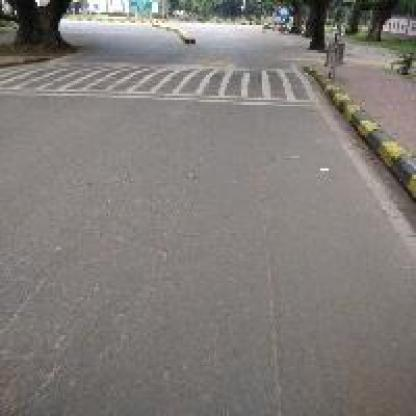Speed Bump: (2, 62, 310, 108)
